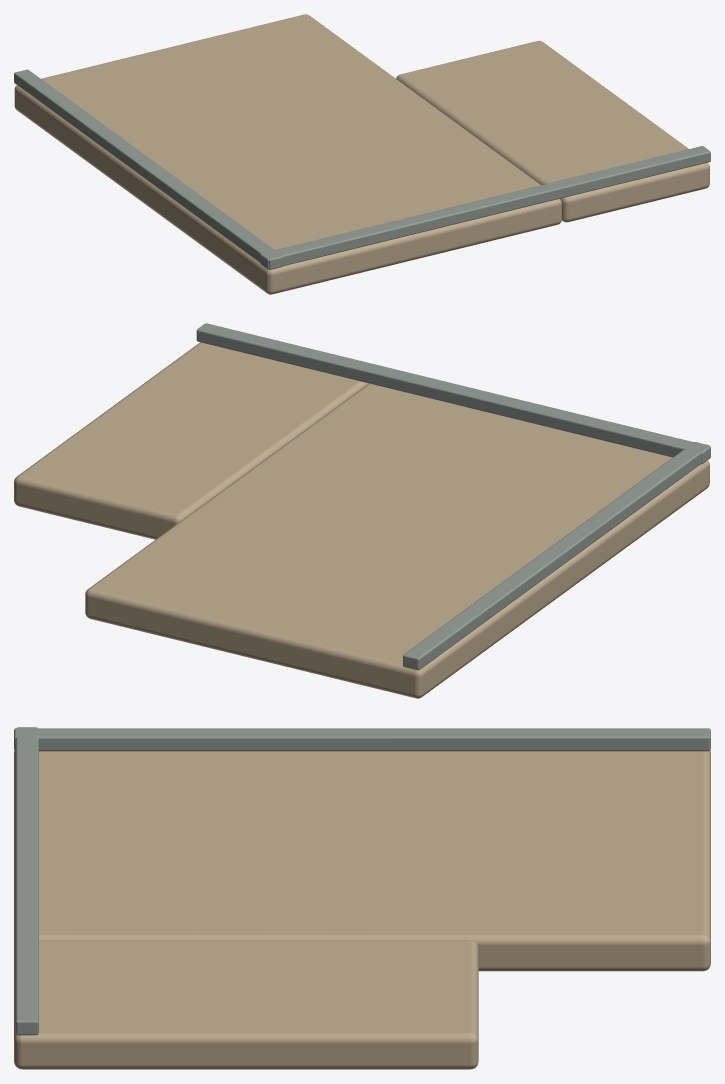
The model's file is canal-boats-and-lock-operations-canal-boats-and-lock-o-6b9f7e11__31636.glb.
The picture shows the model from 3 angles, top to bottom: view 1: azimuth 30°, elevation 25°; view 2: azimuth 150°, elevation 25°; view 3: azimuth 270°, elevation 25°; orthographic projection. The views are drawn at different scales.
Parts seen in each view (by area): view 1: canal-boats-and-lock-operations-towpath-turn; view 2: canal-boats-and-lock-operations-towpath-turn; view 3: canal-boats-and-lock-operations-towpath-turn.
Part boxes in pixels (x1,y1,x2,y2): canal-boats-and-lock-operations-towpath-turn: (14,14,710,294); canal-boats-and-lock-operations-towpath-turn: (14,323,710,698); canal-boats-and-lock-operations-towpath-turn: (14,727,710,1069).
Size of the model in its own units: 2.1 by 0.17 by 2.1.
